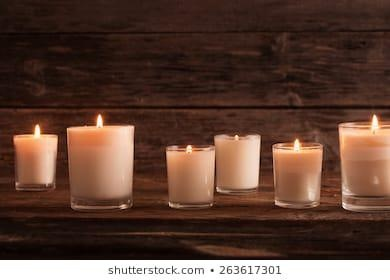fire: (367, 112, 379, 133), (290, 136, 302, 152), (30, 121, 41, 138), (94, 111, 103, 128), (183, 142, 193, 153)
